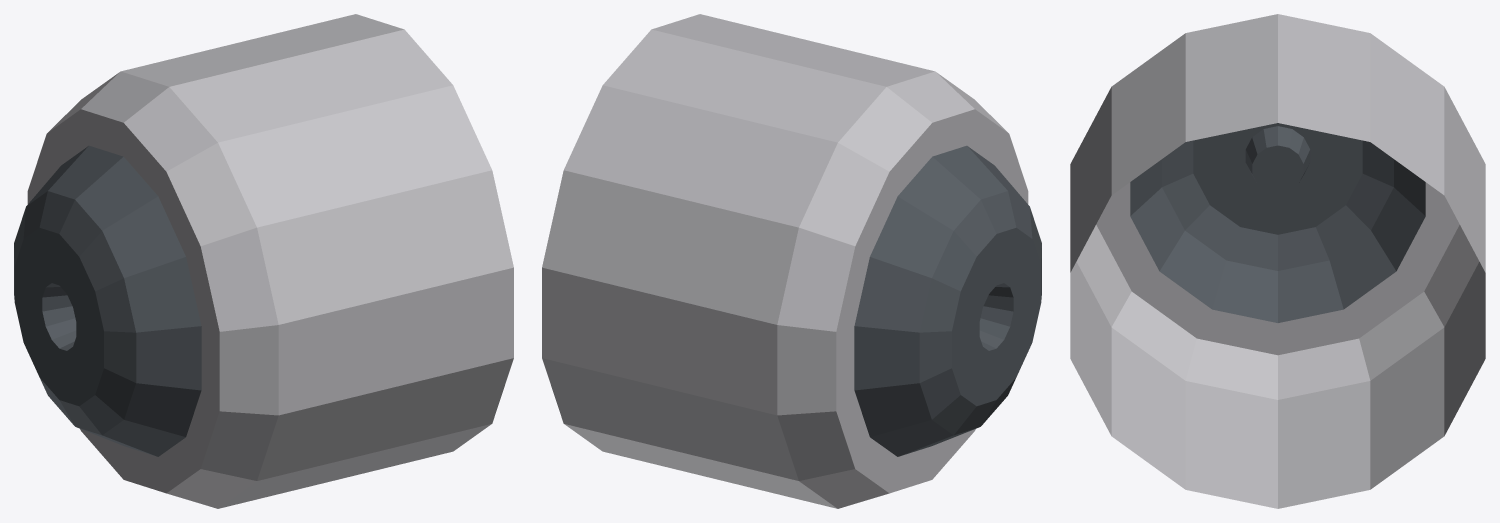
The model's file is Personal_Vehicle_03_Detail_1.fbx.
The picture shows the model from 3 angles, left to right: view 1: azimuth 30°, elevation 25°; view 2: azimuth 150°, elevation 25°; view 3: azimuth 270°, elevation 25°; orthographic projection. The views are drawn at different scales.
Visible parts, largest first — view 1: Personal_Vehicle_03_Detail_1; view 2: Personal_Vehicle_03_Detail_1; view 3: Personal_Vehicle_03_Detail_1.
Boxes of the visible parts, x1,y1,x2,y2 form: Personal_Vehicle_03_Detail_1: (14, 14, 513, 508); Personal_Vehicle_03_Detail_1: (542, 14, 1041, 508); Personal_Vehicle_03_Detail_1: (1070, 14, 1485, 508).
Size of the model in its own units: 9.82 by 11.05 by 10.77.
Materials: 1 (1 with a texture image).
